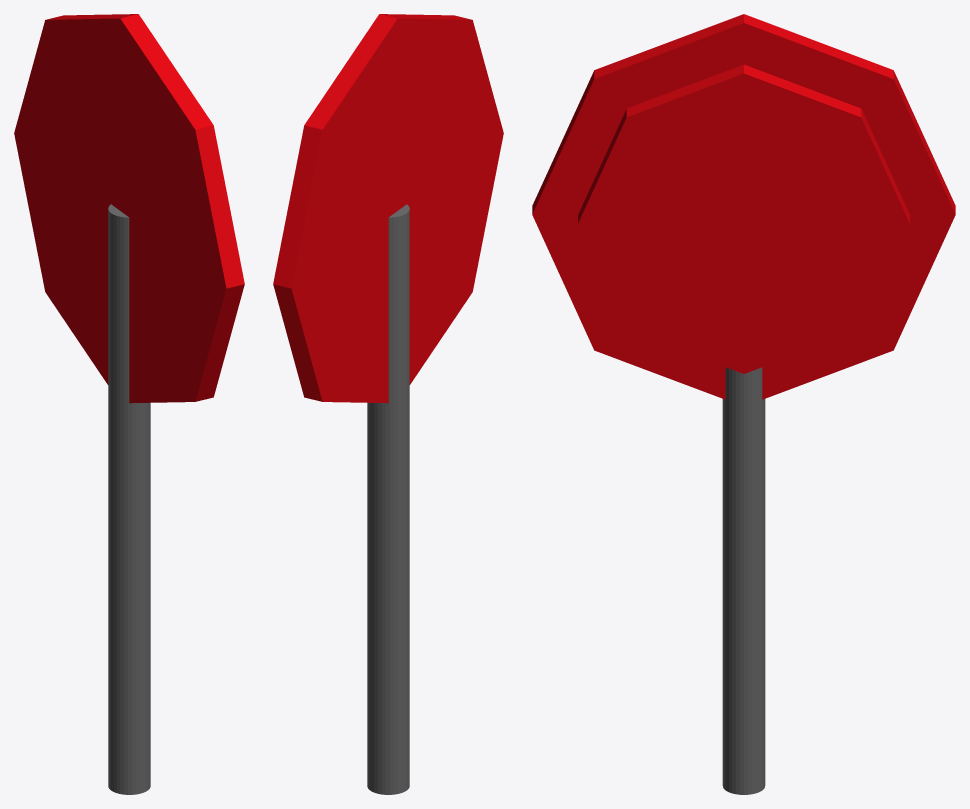
File: StopSign.fbx
3 renders of one model, left to right at view 1: azimuth 30°, elevation 25°; view 2: azimuth 150°, elevation 25°; view 3: azimuth 270°, elevation 25°, orthographic.
Visible parts, largest first — view 1: Cylinder; view 2: Cylinder; view 3: Cylinder.
Boxes of the visible parts, x1=… form: Cylinder: x1=14, y1=14, x2=244, y2=794; Cylinder: x1=273, y1=14, x2=503, y2=794; Cylinder: x1=532, y1=14, x2=955, y2=794.
Bounding box in the file's own units: 2.5 × 40 × 20.
